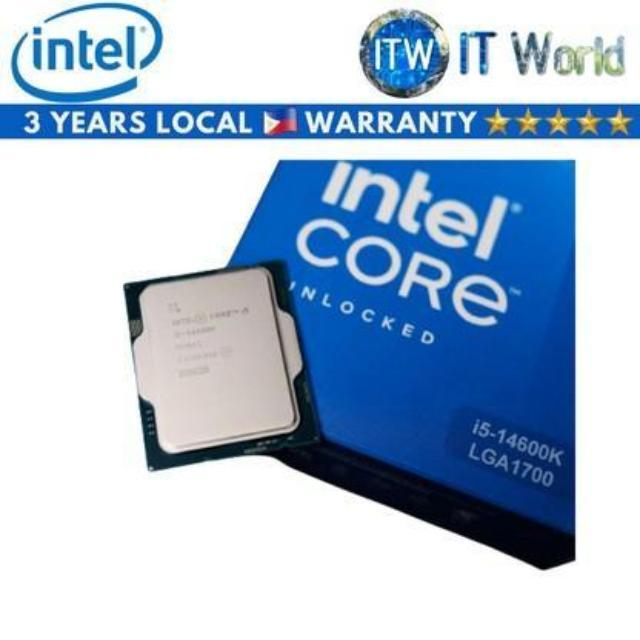CPU: (118, 265, 318, 467)
